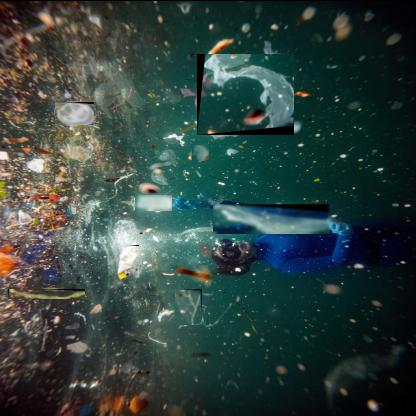waste: (197, 52, 295, 134), (213, 202, 332, 233), (175, 287, 203, 324), (55, 100, 95, 124), (8, 287, 86, 298), (118, 243, 140, 277), (135, 193, 173, 210), (192, 143, 210, 160)
